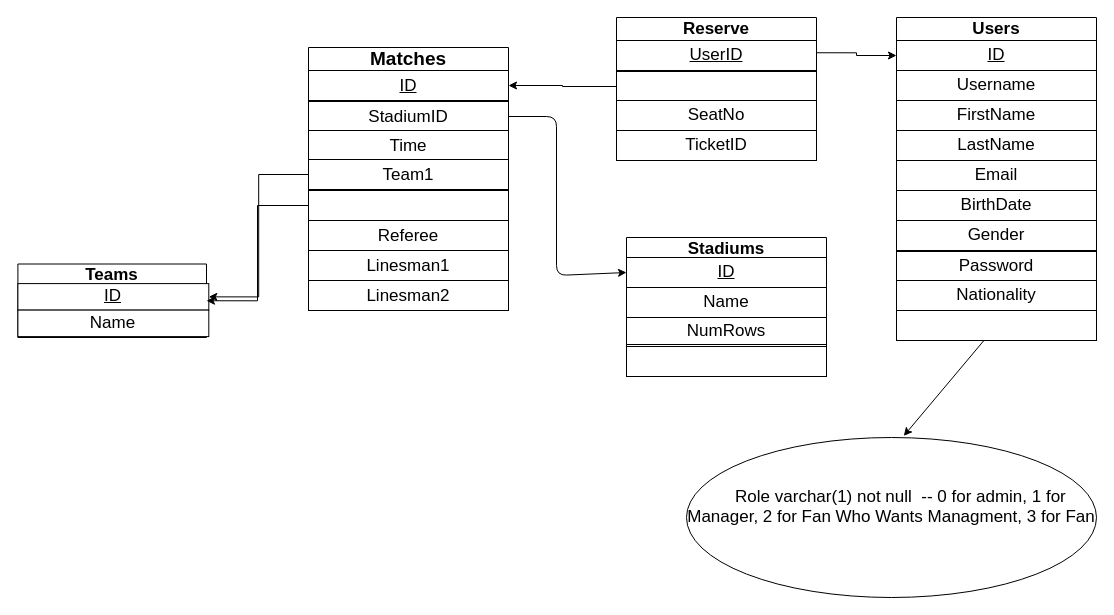
The diagram is 1114 pixels wide and 615 high, and some of its shapes have lost their labels. The centre of each missing label's shape, as x and y in pixels:
MatchID: point (716, 86)
NumSeatsPerRow: point (726, 361)
Role: point (996, 325)
Team2: point (408, 205)
